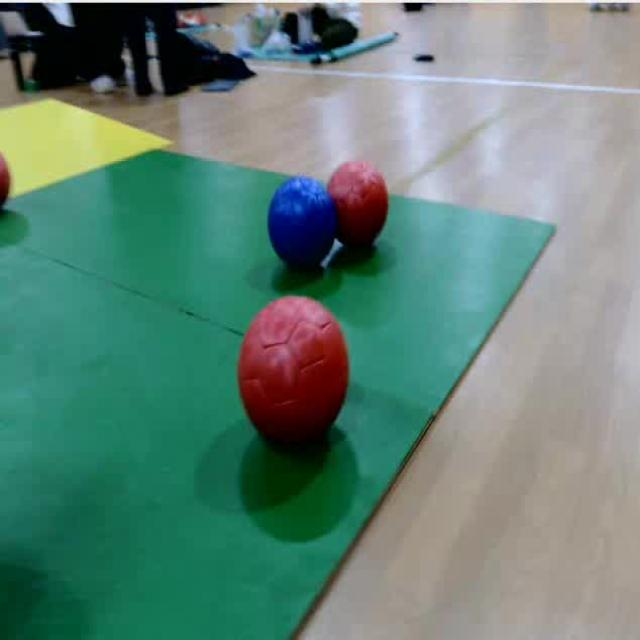blue_ball: (265, 174, 339, 272)
red_ball: (232, 294, 351, 458), (336, 160, 392, 252)
